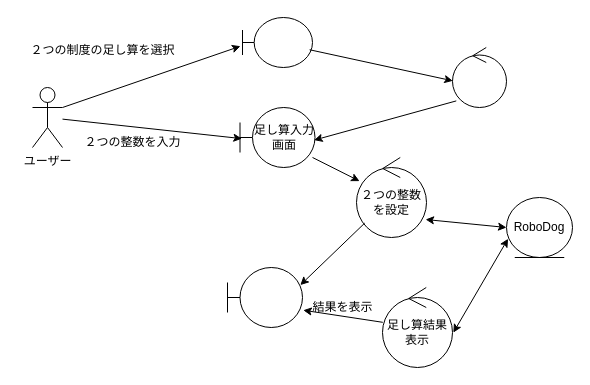
This 590x385 diagram has some shape labels left out. Here are the shapes that lost their labels. From the top down, the box of each, then its label:
(242, 16, 312, 68): システムメニュー
(452, 46, 506, 108): 表示
(226, 266, 302, 328): 足し算結果表示画面
